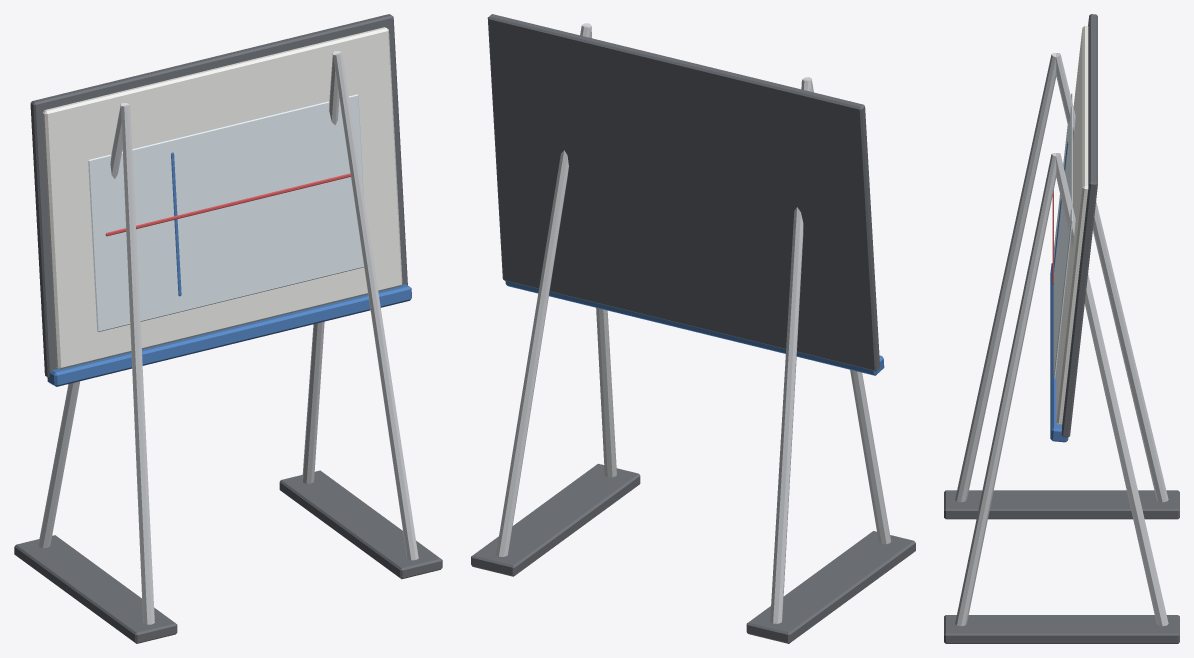
The model's file is ice-hockey-arena-and-locker-room-whiteboard-on-stand-ca671303__33734.glb.
3 views of the same model, side by side, from view 1: azimuth 30°, elevation 25°; view 2: azimuth 150°, elevation 25°; view 3: azimuth 270°, elevation 25° (orthographic). The views are drawn at different scales.
Parts seen in each view (by area): view 1: whiteboard-on-stand; view 2: whiteboard-on-stand; view 3: whiteboard-on-stand.
Boxes of the visible parts, left/top/right/bottom form: whiteboard-on-stand: left=14, top=14, right=442, bottom=643; whiteboard-on-stand: left=471, top=14, right=915, bottom=643; whiteboard-on-stand: left=944, top=14, right=1179, bottom=643.
Size of the model in its own units: 1.36 by 1.78 by 0.7999.
